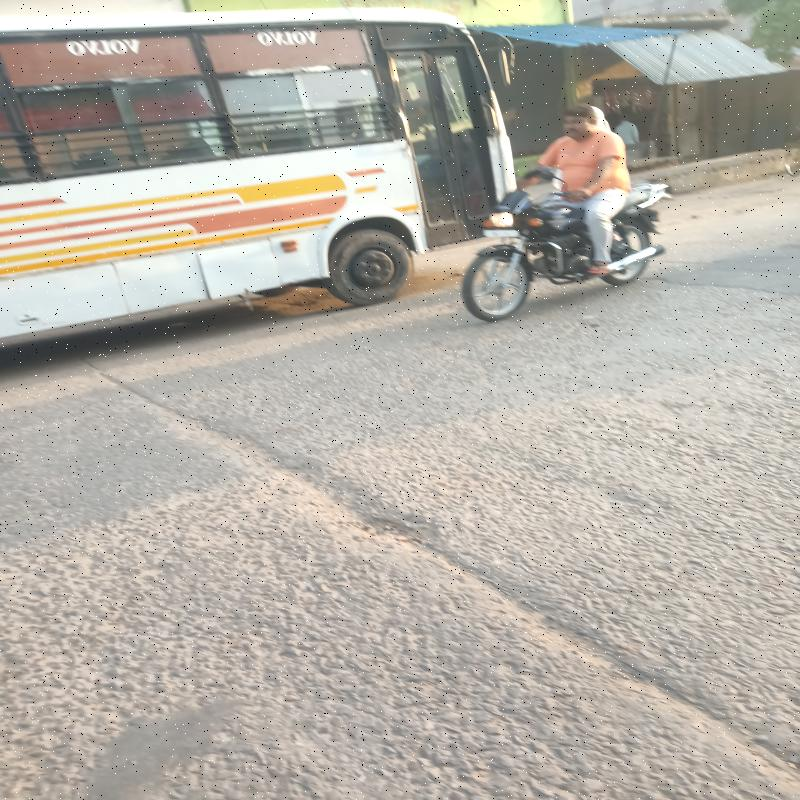bus: (0, 15, 494, 342)
